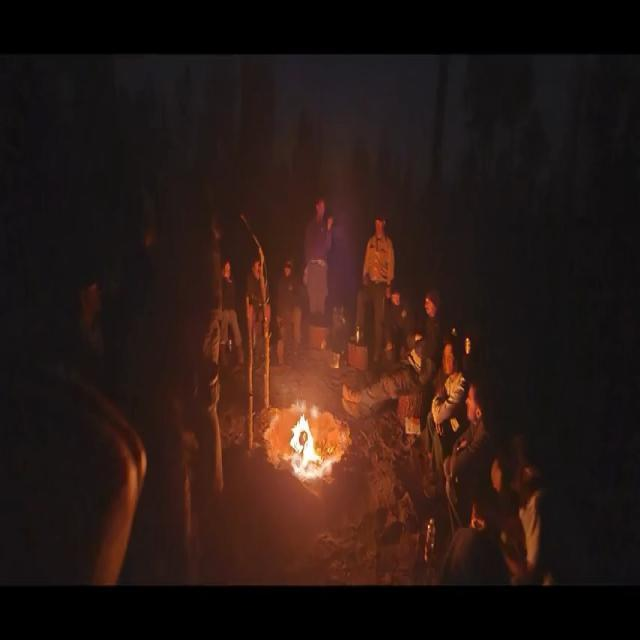Fire: (280, 410, 323, 475)
